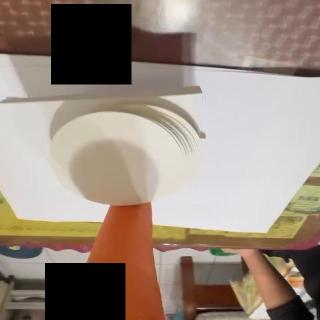carrot: (65, 202, 170, 320)
